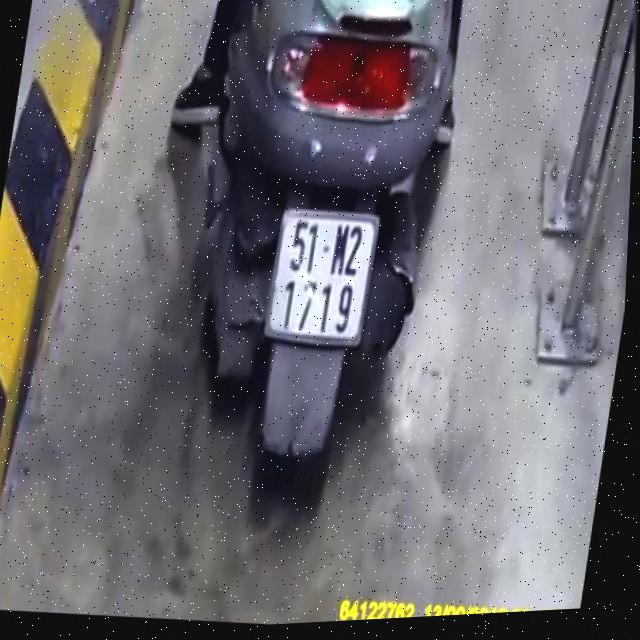motorcycle: (153, 0, 473, 513)
plate: (257, 198, 385, 354)
